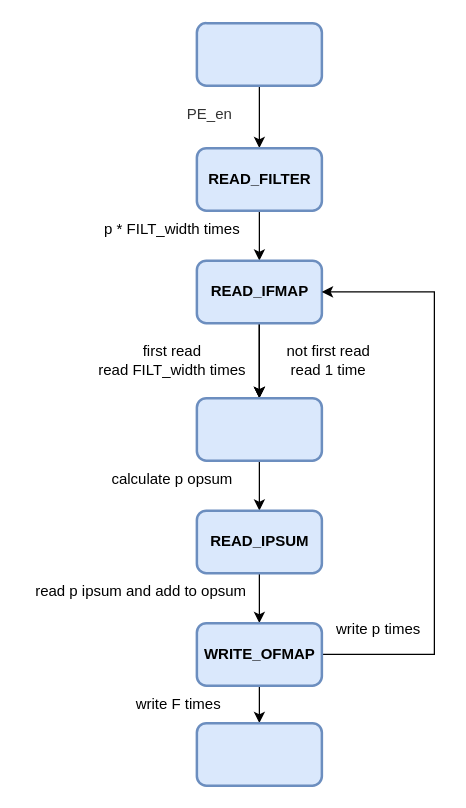
This 466x808 diagram has some shape labels left out. The shapes that lost their labels are listed below. From the top down, each one's box as (x1, y1, x2, y2) in pixels, then its label:
(195, 21, 322, 86): IDLE
(195, 396, 322, 461): CONV
(195, 721, 322, 786): DONE
